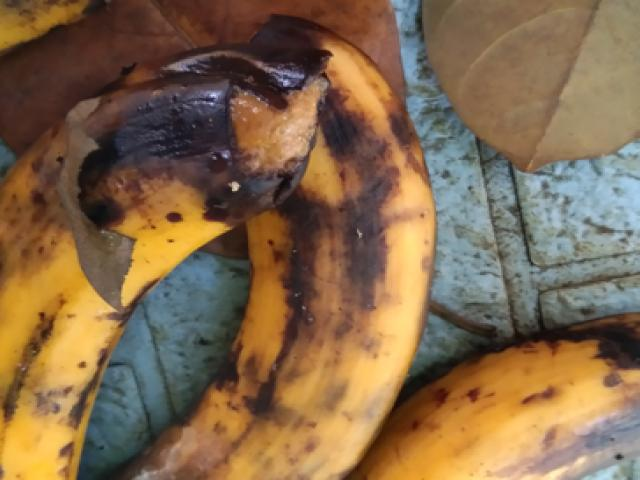rotten: (134, 14, 445, 479), (0, 32, 311, 479)
